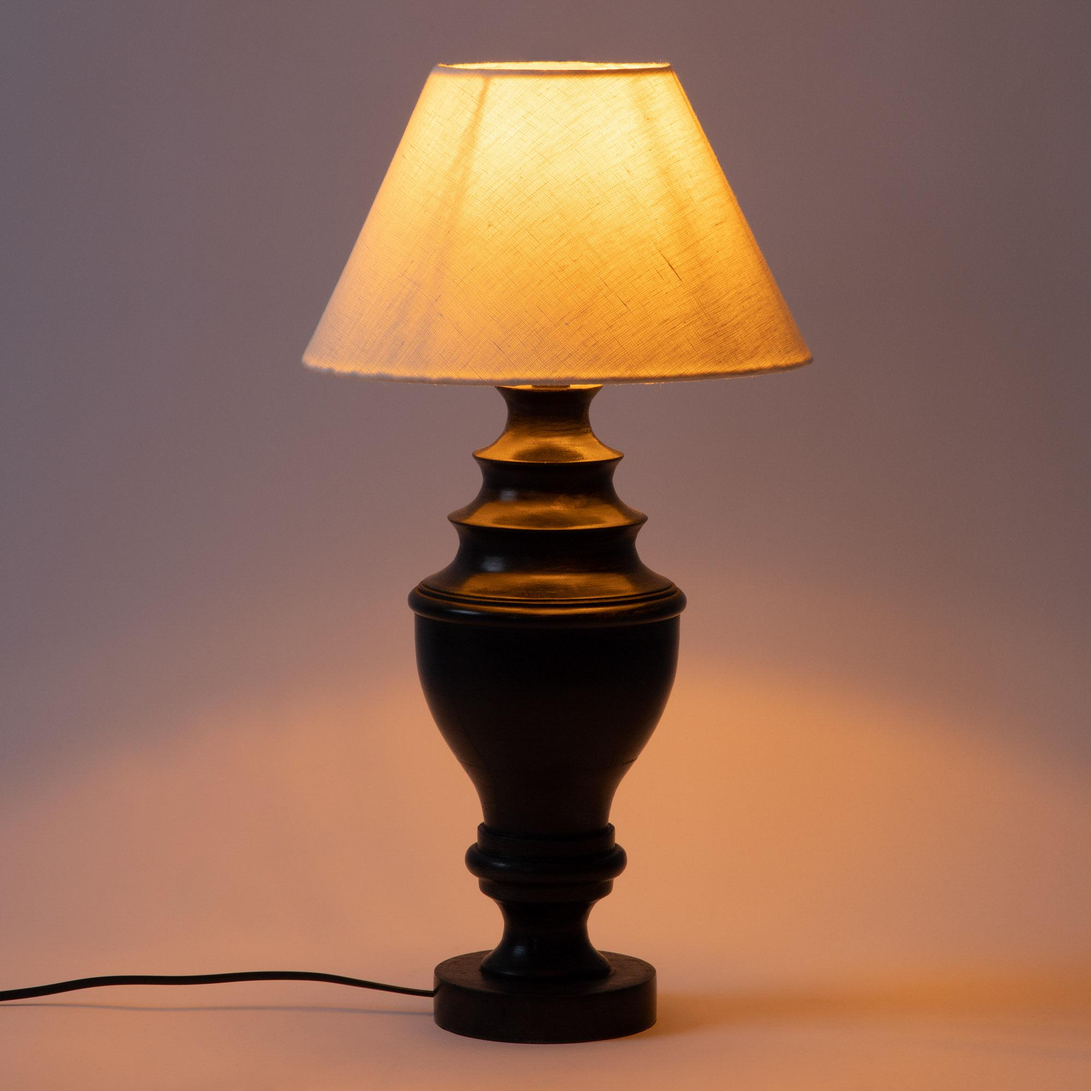light: (299, 37, 818, 1042)
